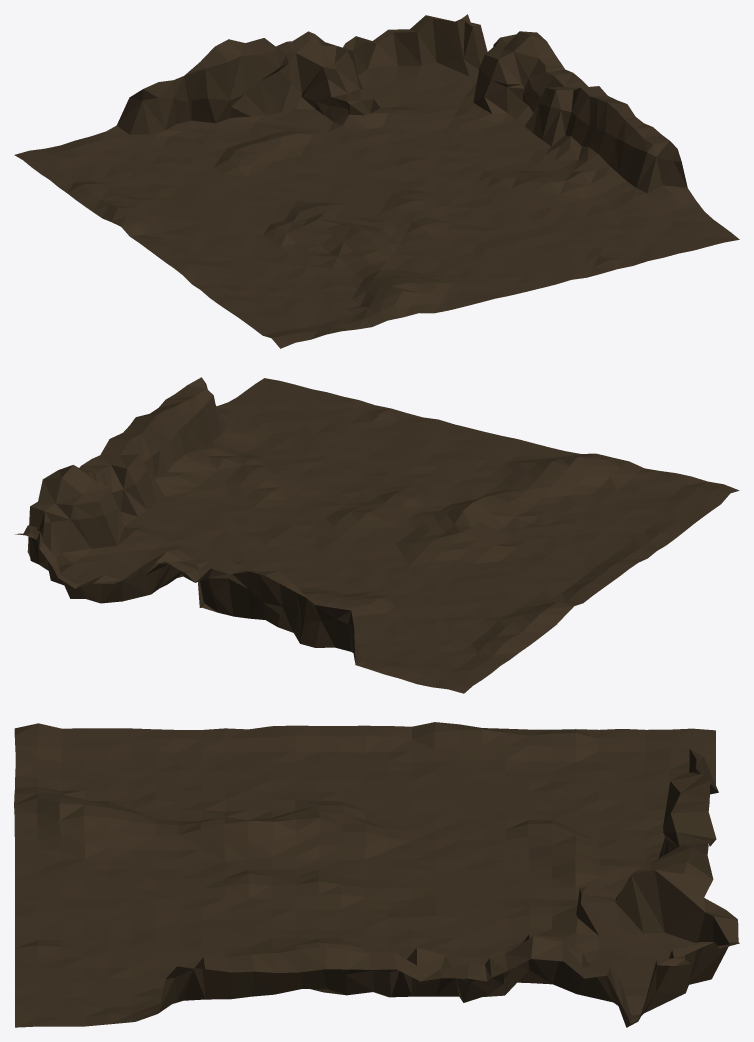
File: Terrain.fbx
The picture shows the model from 3 angles, top to bottom: view 1: azimuth 30°, elevation 25°; view 2: azimuth 150°, elevation 25°; view 3: azimuth 270°, elevation 25°; orthographic projection. The views are drawn at different scales.
Visible parts, largest first — view 1: pPlane79; view 2: pPlane79; view 3: pPlane79.
Part boxes in pixels (left/top/right/bottom): pPlane79: left=14, top=14, right=739, bottom=348; pPlane79: left=15, top=377, right=739, bottom=693; pPlane79: left=14, top=722, right=739, bottom=1027.
Bounding box in the file's own units: 531 × 78.06 × 544.
